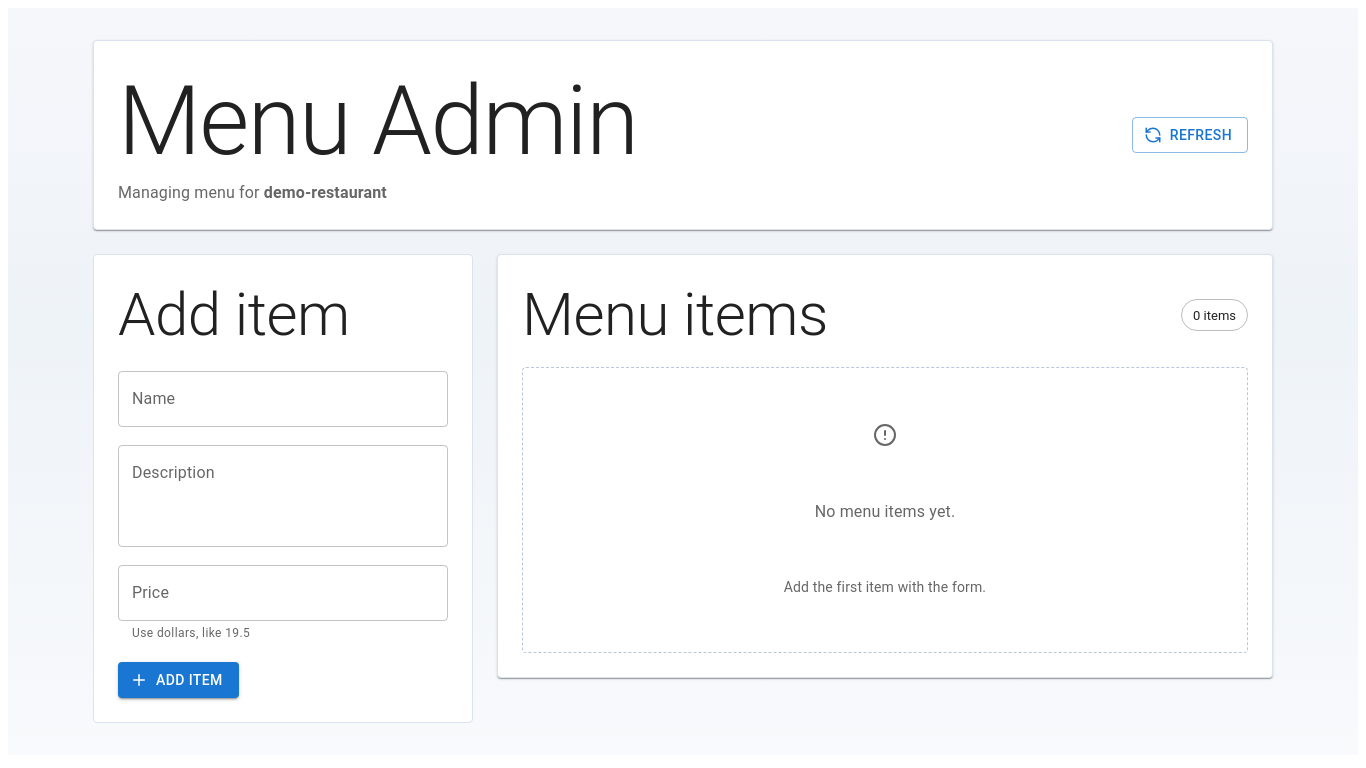
Test: MenuAdminApp › creates a menu item through the API client
The image size is (1366, 768).
expect the text "No menu items yet." is shown: met, box left=815, top=500, right=955, bottom=524
In the field labelled "Name": (283, 399) left=118, top=371, right=448, bottom=427, type "Lemon Chicken"
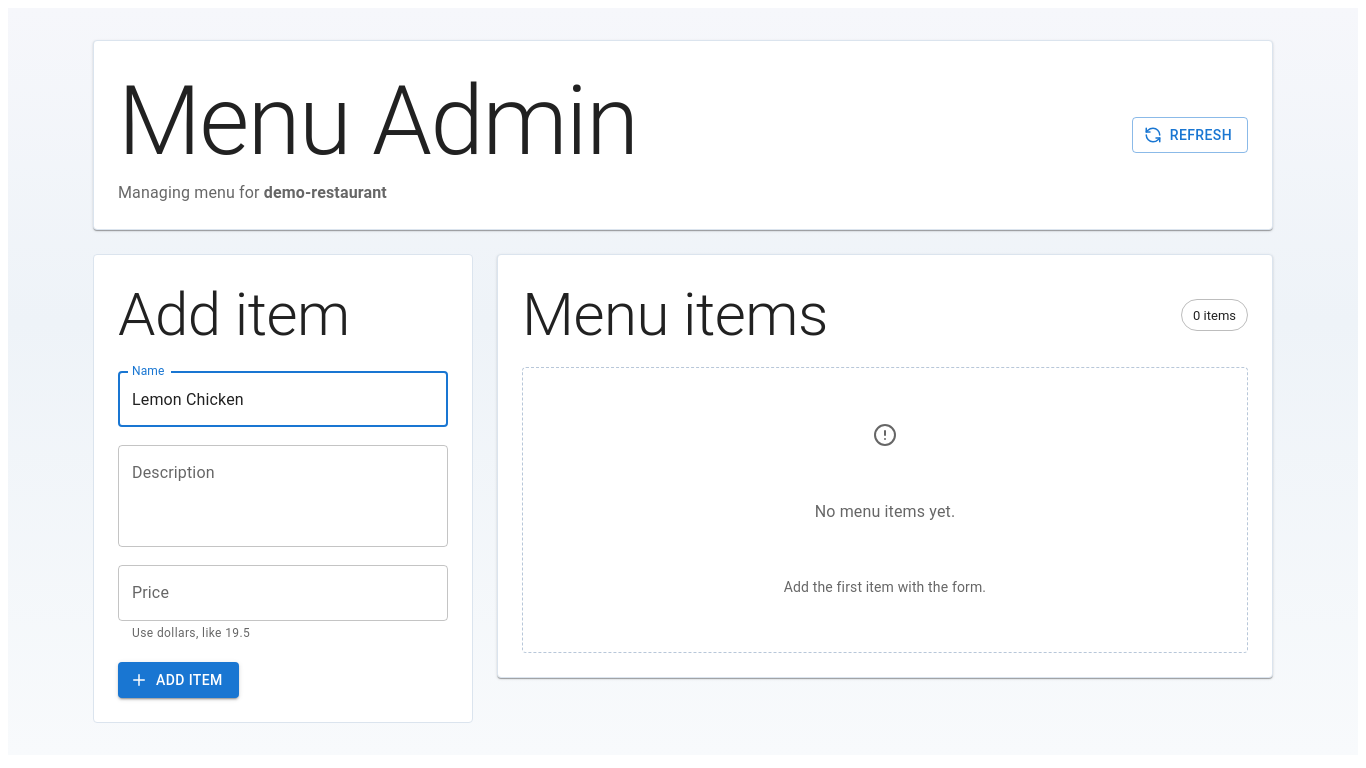
In the text box labelled "Description": (283, 496) left=132, top=462, right=434, bottom=530, type "Herbs and greens"
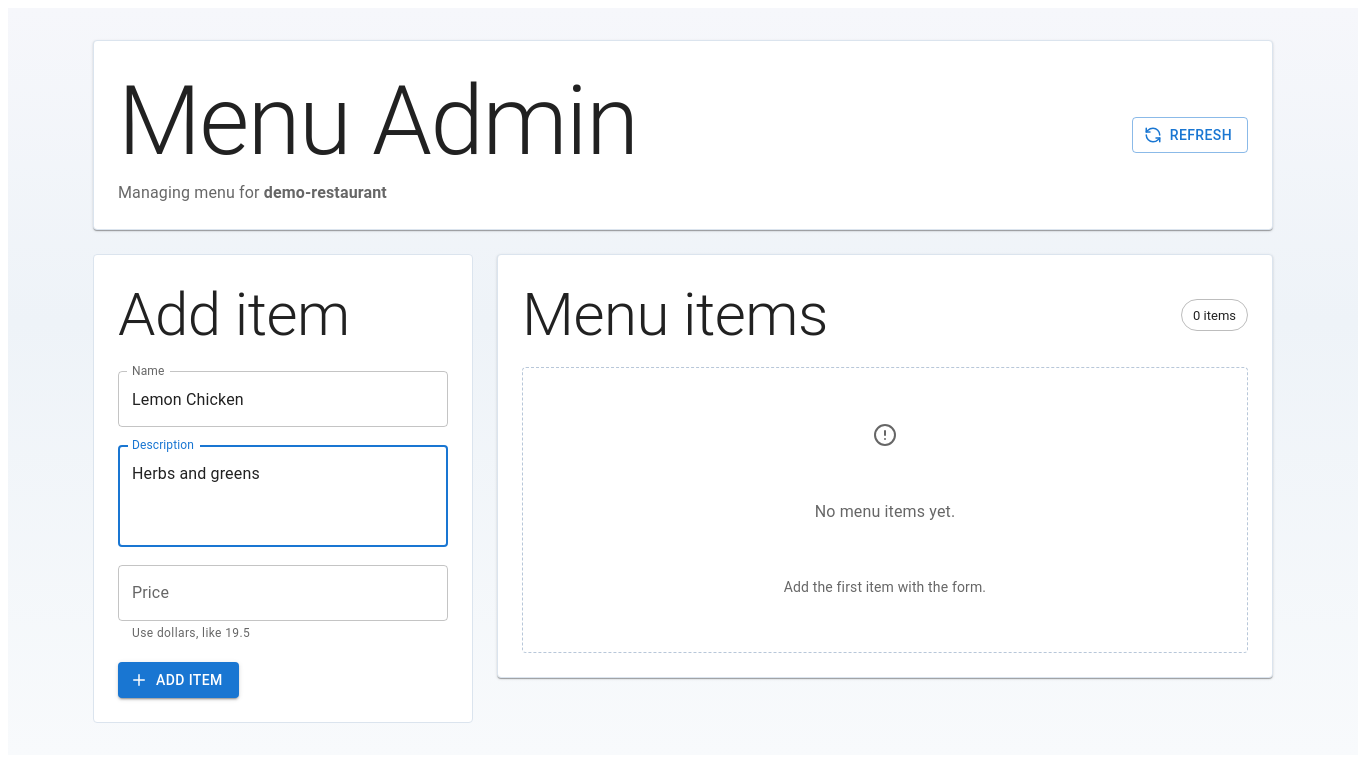
In the number field labelled "Price": (283, 593) left=118, top=565, right=448, bottom=621, type "24"
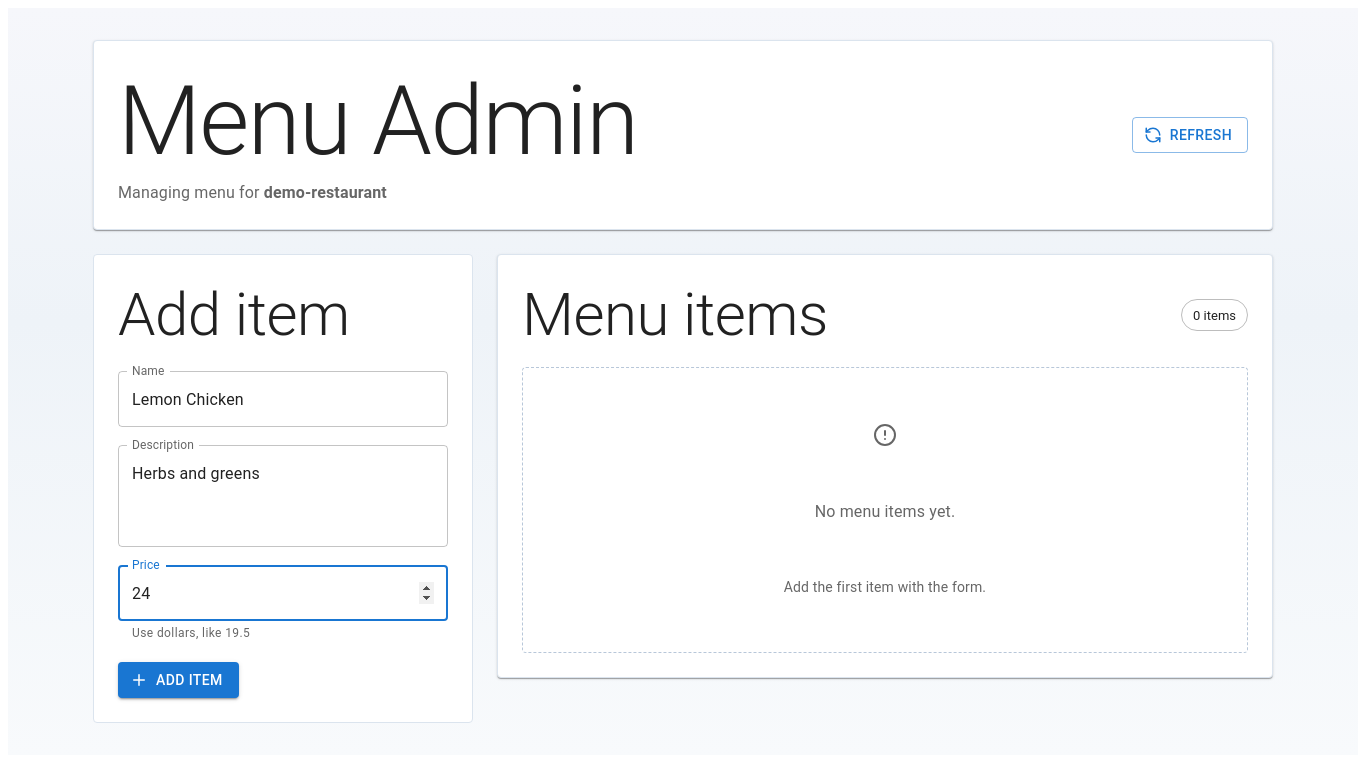
Click the button "Add item": (178, 680) left=118, top=662, right=239, bottom=698
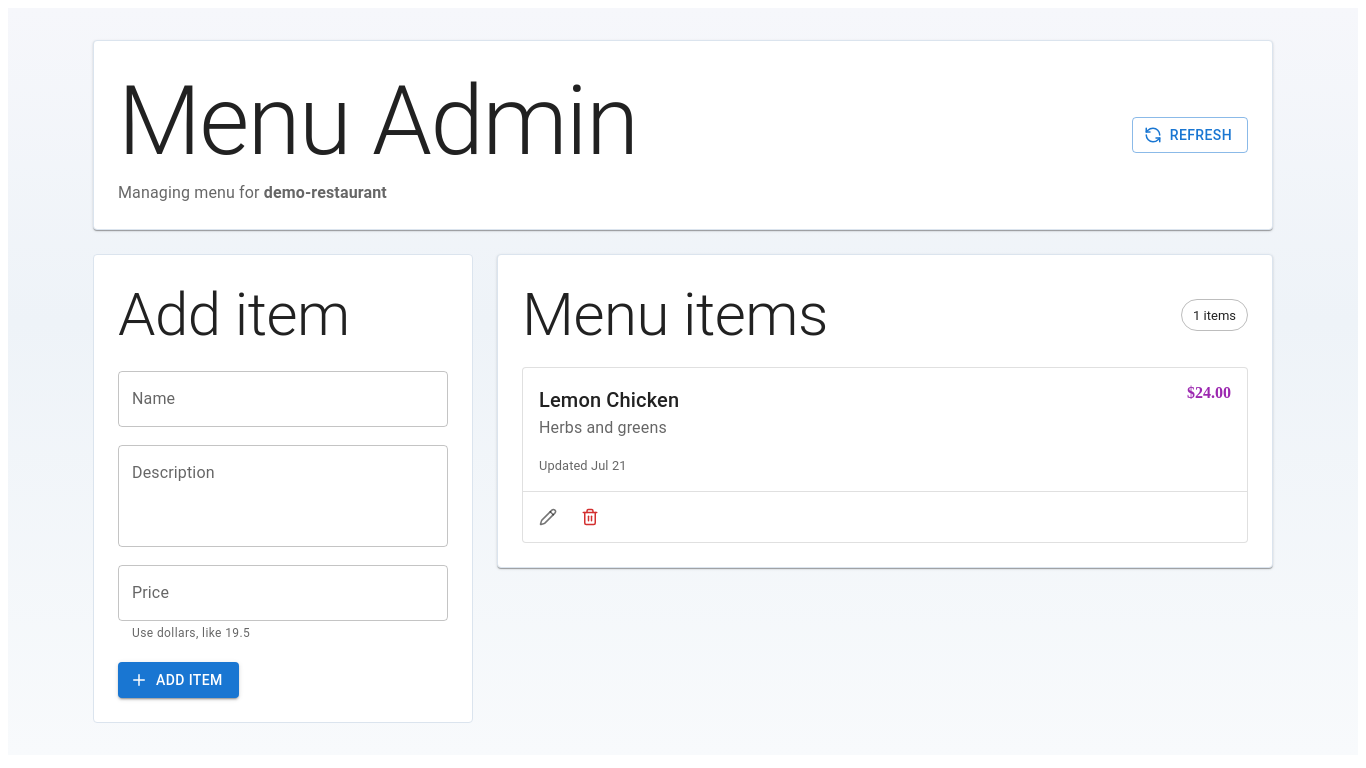
expect the heading "Lemon Chicken" is shown: met, box left=539, top=384, right=679, bottom=416
